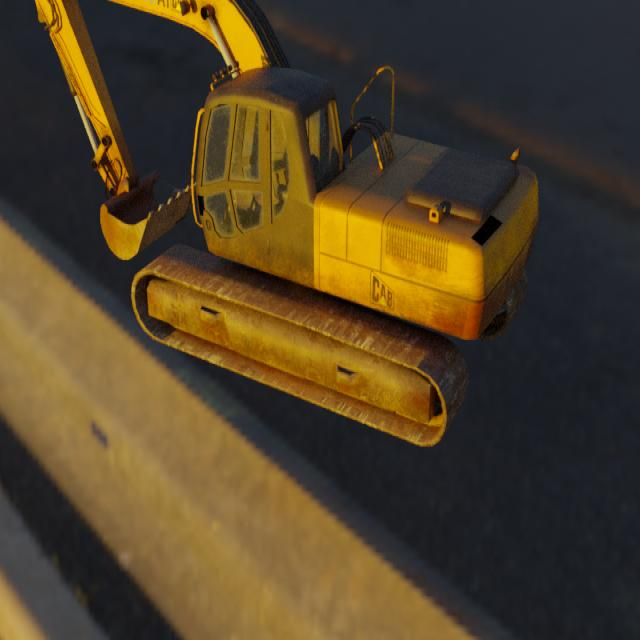excavator: (34, 0, 539, 448)
